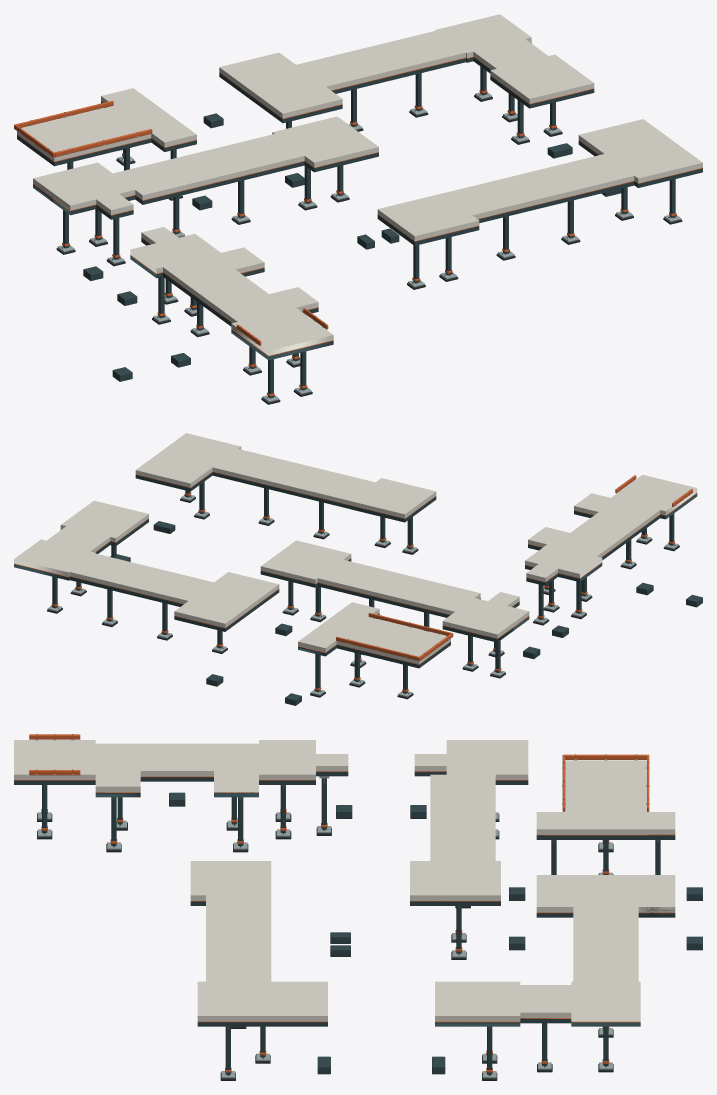
File: mechanism-trial-track.glb
3 views of the same model, one above another, from view 1: azimuth 30°, elevation 25°; view 2: azimuth 150°, elevation 25°; view 3: azimuth 270°, elevation 25° (orthographic). The views are drawn at different scales.
Parts seen in each view (by area): view 1: TrackStatic; view 2: TrackStatic; view 3: TrackStatic.
Part boxes in pixels (x1=…): TrackStatic: x1=14, y1=14, x2=702, y2=404; TrackStatic: x1=14, y1=433, x2=702, y2=705; TrackStatic: x1=14, y1=734, x2=702, y2=1080.
Bounding box in the file's own units: 36.8 × 4.08 × 33.75.
